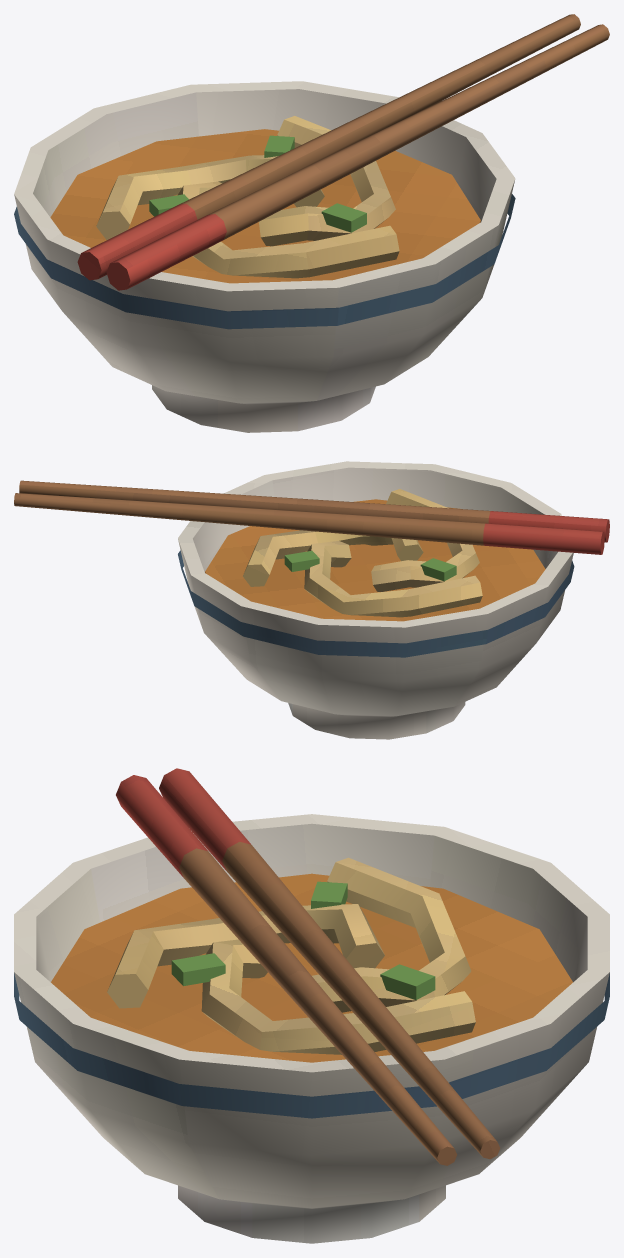
Rendered from bowl_noodles.glb.
3 views of the same model, one above another, from view 1: azimuth 30°, elevation 25°; view 2: azimuth 150°, elevation 25°; view 3: azimuth 270°, elevation 25° (orthographic). The views are drawn at different scales.
Visible parts, largest first — view 1: bowl_noodles; view 2: bowl_noodles; view 3: bowl_noodles.
Part boxes in pixels (x1,y1,x2,y2): bowl_noodles: (14,14,609,432); bowl_noodles: (14,461,609,739); bowl_noodles: (14,768,609,1243).
Size of the model in its own units: 0.2323 by 0.081 by 0.156.
7 materials, 6 textured.
